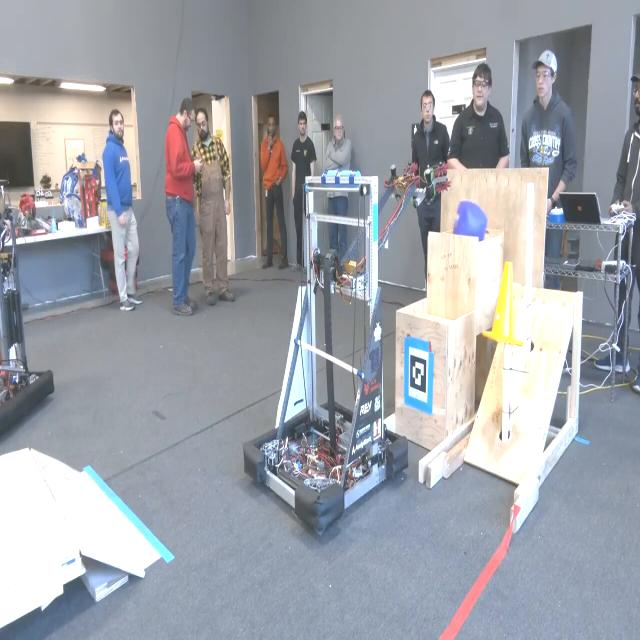frc_cone: (481, 254, 524, 354)
frc_cube: (452, 198, 488, 250)
